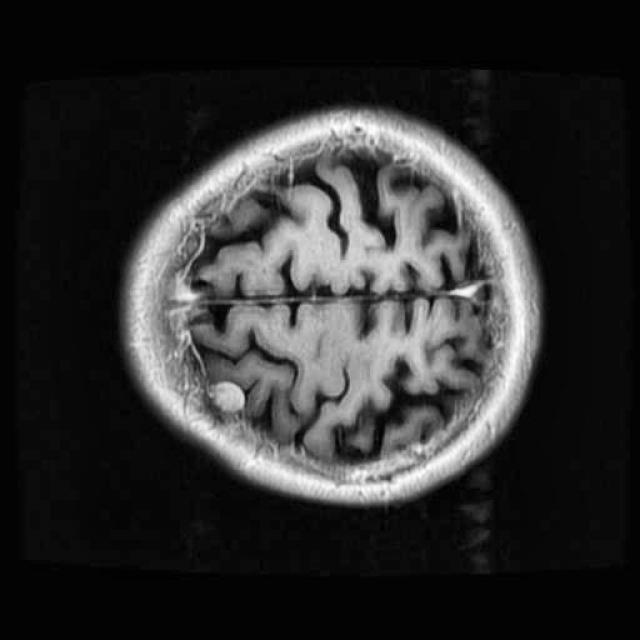Tumor: (194, 369, 265, 425)
